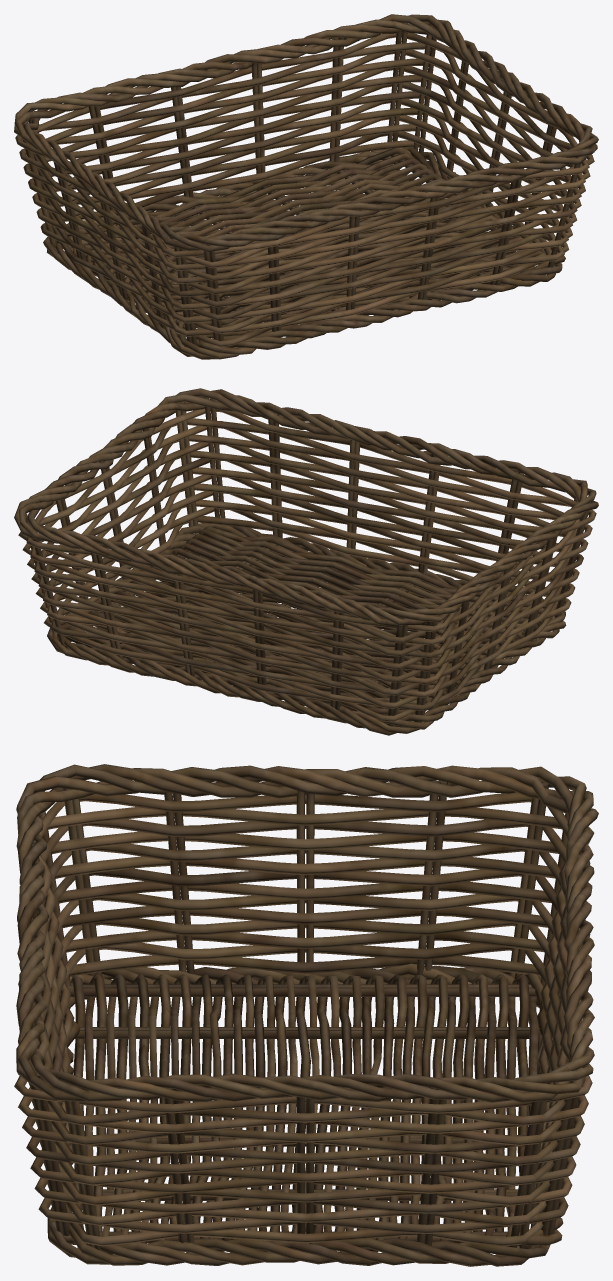
The model's file is wicker_basket_01.glb.
The picture shows the model from 3 angles, top to bottom: view 1: azimuth 30°, elevation 25°; view 2: azimuth 150°, elevation 25°; view 3: azimuth 270°, elevation 25°; orthographic projection. The views are drawn at different scales.
Visible parts, largest first — view 1: wicker_basket_01; view 2: wicker_basket_01; view 3: wicker_basket_01.
Boxes of the visible parts, x1=… form: wicker_basket_01: x1=14, y1=14, x2=598, y2=359; wicker_basket_01: x1=14, y1=388, x2=598, y2=735; wicker_basket_01: x1=14, y1=764, x2=598, y2=1266.
Bounding box in the file's own units: 0.3832 × 0.1174 × 0.295.
1 material, 1 textured.
